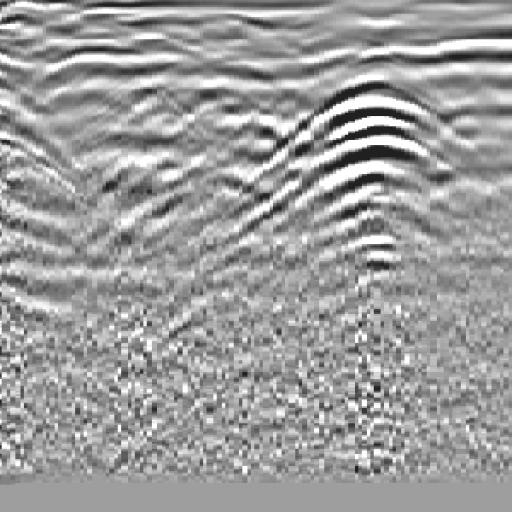metalic: (257, 66, 480, 285)
